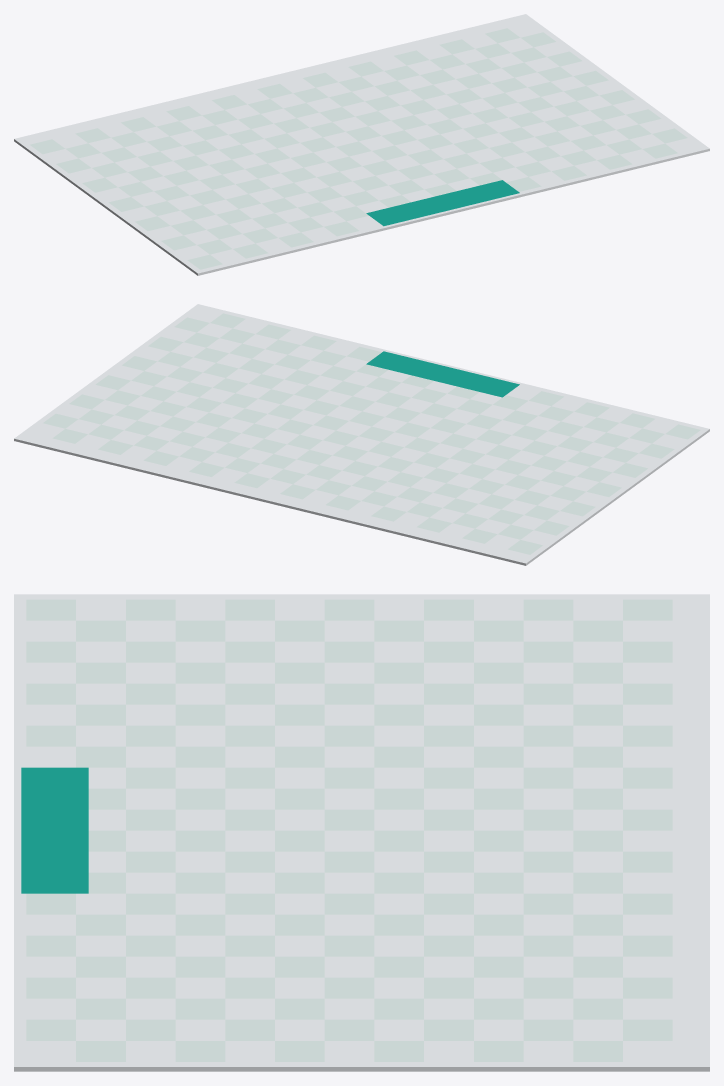
The model's file is CM_Shell_Floor_MiniMart.fbx.
The picture shows the model from 3 angles, top to bottom: view 1: azimuth 30°, elevation 25°; view 2: azimuth 150°, elevation 25°; view 3: azimuth 270°, elevation 25°; orthographic projection. The views are drawn at different scales.
Parts seen in each view (by area): view 1: Floor; view 2: Floor; view 3: Floor.
Boxes of the visible parts, left/top/right/bottom form: Floor: left=14, top=14, right=709, bottom=275; Floor: left=14, top=304, right=709, bottom=565; Floor: left=14, top=594, right=709, bottom=1071.
Bounding box in the file's own units: 90 × 56 × 0.402.
1 material, 1 textured.
